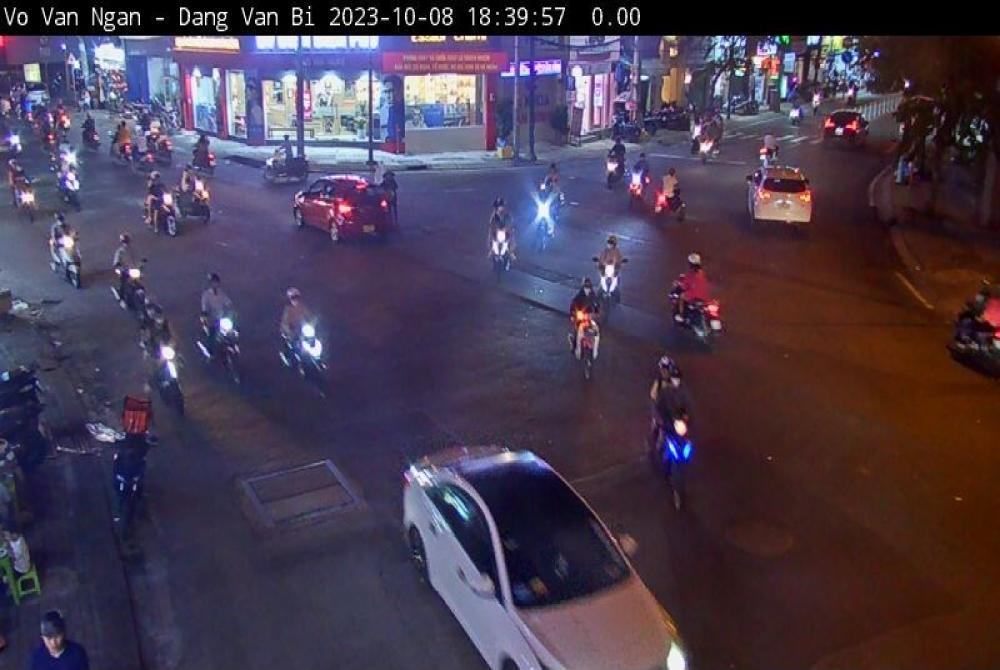car: (392, 420, 700, 670), (285, 170, 395, 253), (733, 156, 823, 234)
